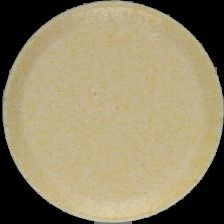63739-350: (0, 0, 224, 224)
